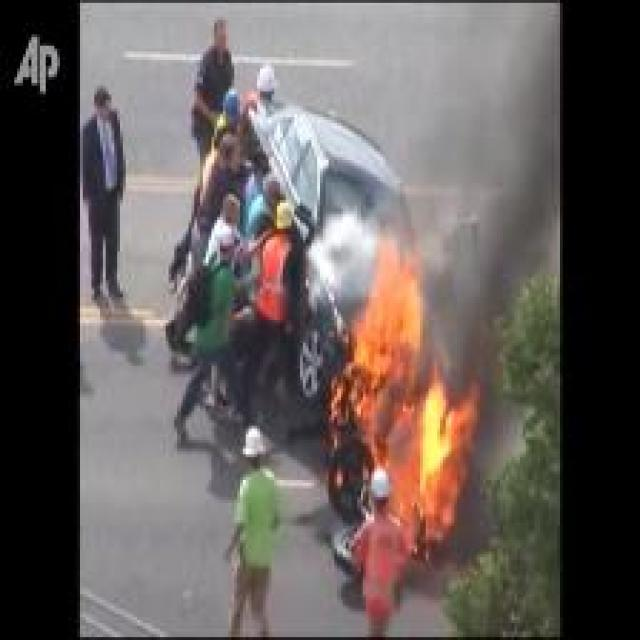Fire: (329, 236, 482, 542)
